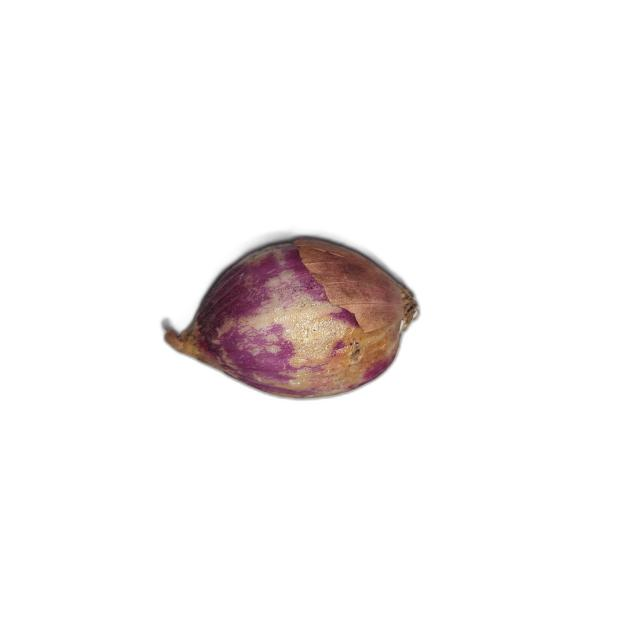onion: (162, 235, 420, 400)
